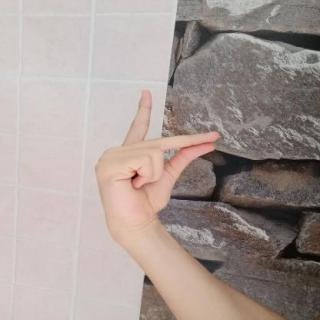TAA: (84, 83, 231, 235)
